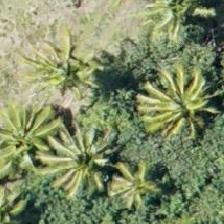coconut_tree: (25, 21, 115, 111), (6, 128, 96, 218), (130, 49, 220, 139), (80, 141, 170, 223), (0, 94, 59, 184), (0, 168, 51, 223)
